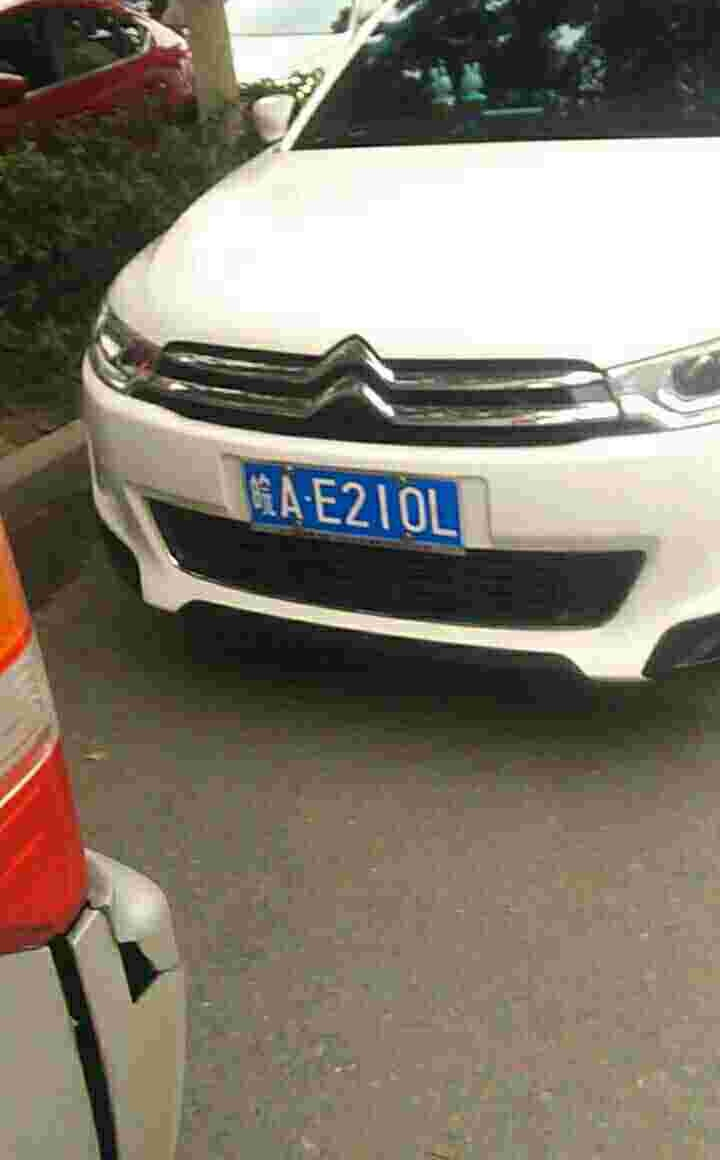car: (240, 462, 475, 548)
